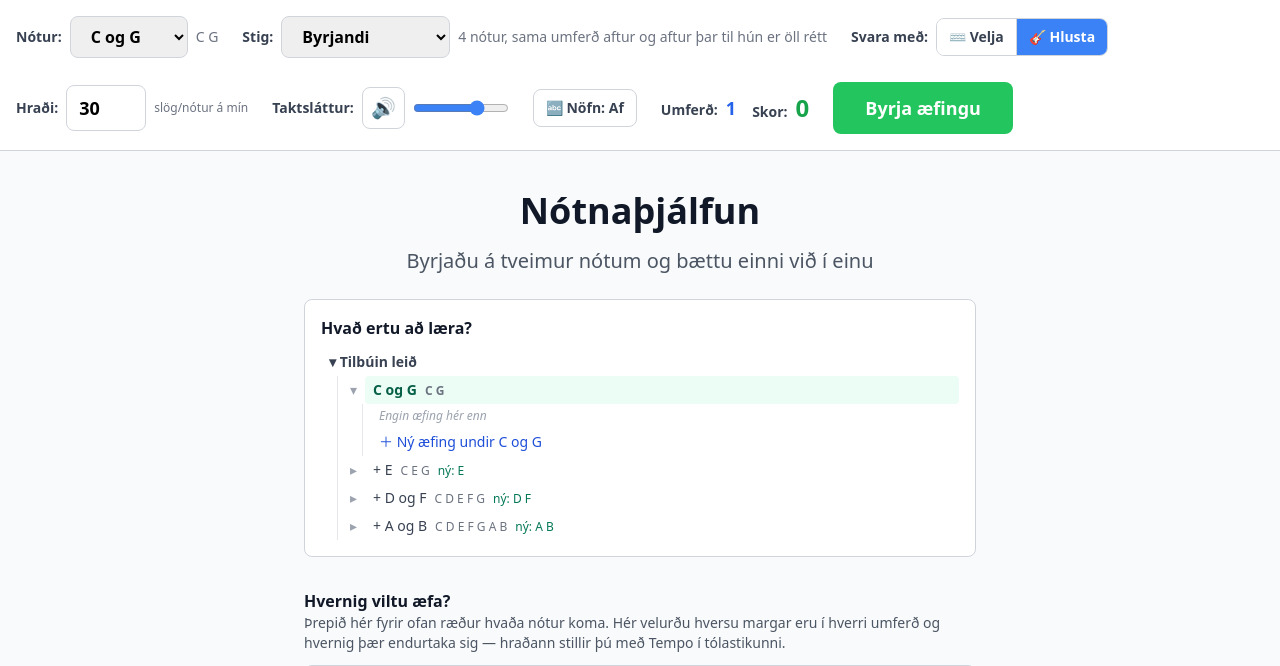
Test case: NotectorGame — Muscle Memory mode › "Ný æfing" in the tree binds the builder to that lesson
The image size is (1280, 666).
Only the lesson being practised starts expanded, so open "+ E" first.
Click the button named "Opna + E": coordinates (354, 470) left=346, top=460, right=361, bottom=480
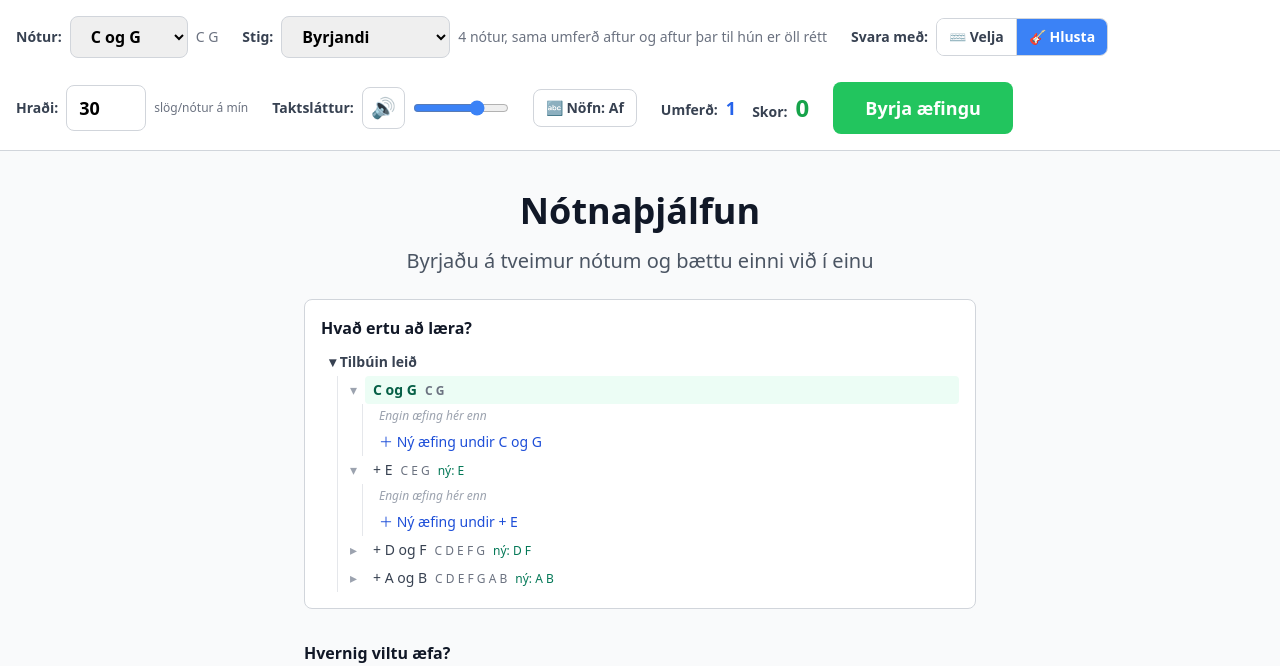
Click the button "＋ Ný æfing undir + E": coordinates (439, 522) left=371, top=508, right=959, bottom=536
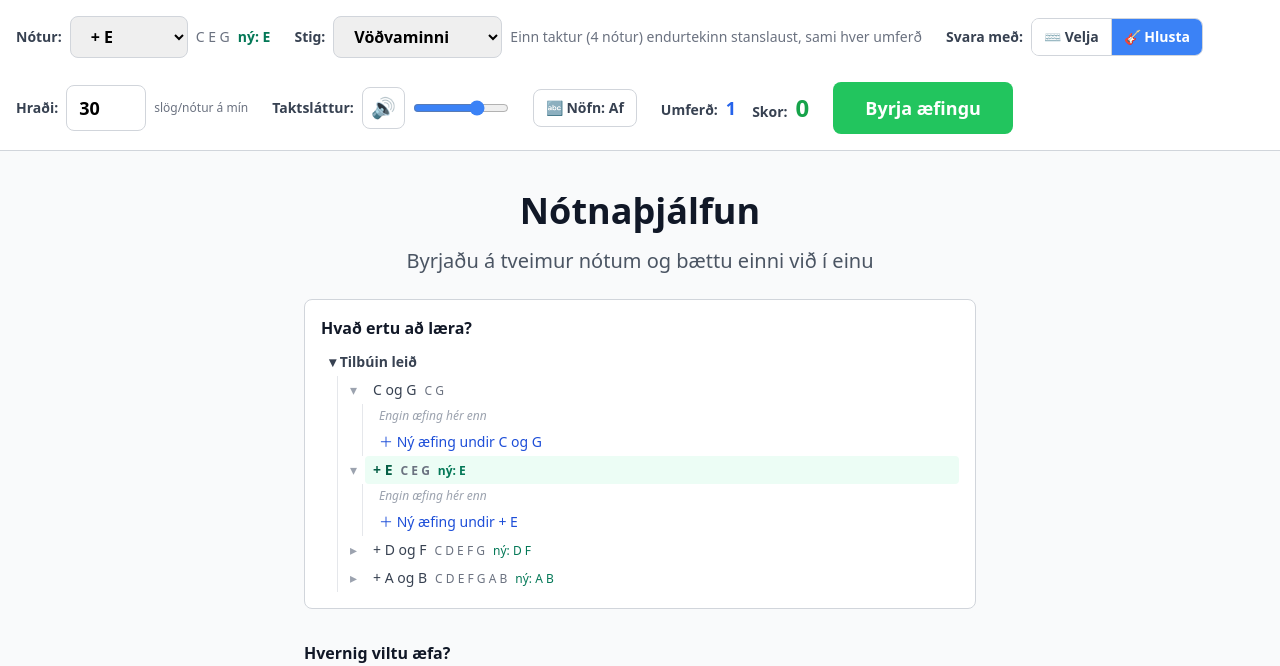
Expected: the dropdown named "Erfiðleikastig" shows "Vöðvaminni", left=333, top=16, right=502, bottom=58
Expected: the dropdown named "Hvaða nótur á að æfa" shows "+ E", left=70, top=16, right=188, bottom=58
